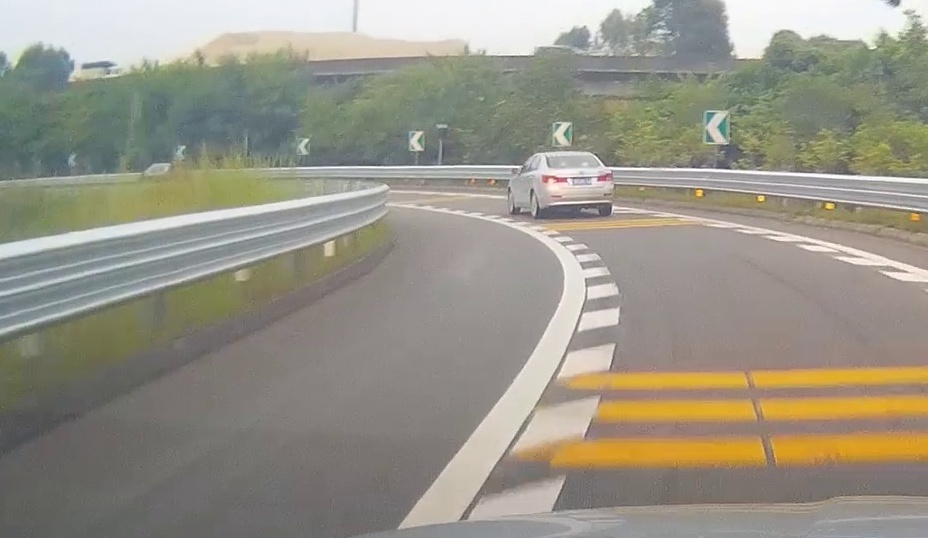L_light: (542, 175, 567, 183)
R_light: (598, 174, 613, 181)
T_light: (572, 164, 583, 168)
day-left: (541, 151, 614, 219)
